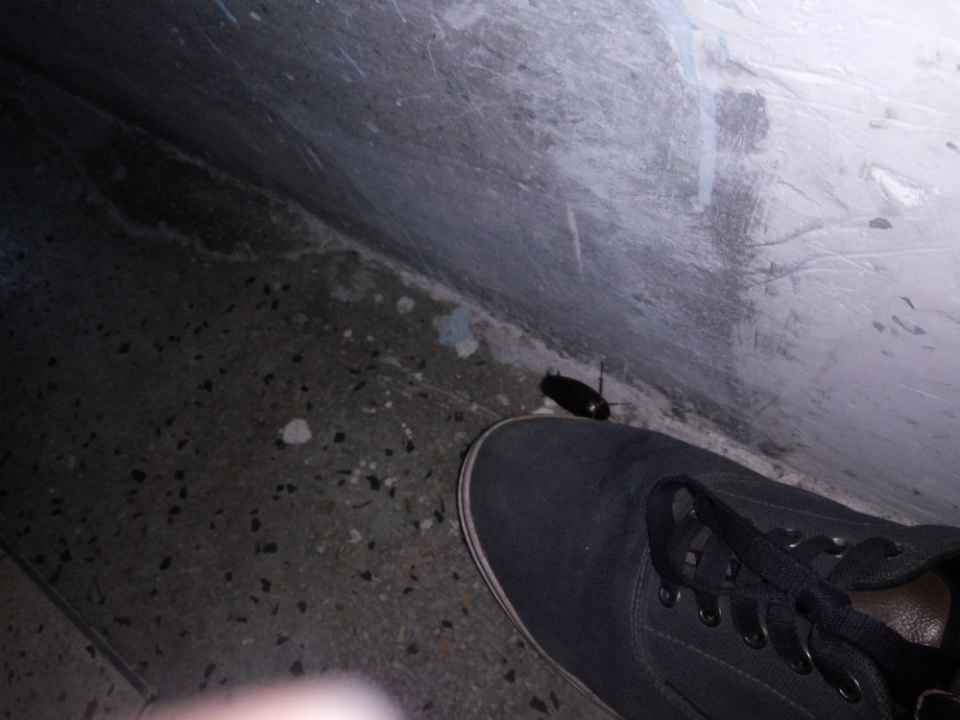cockroach: (514, 346, 679, 432)
